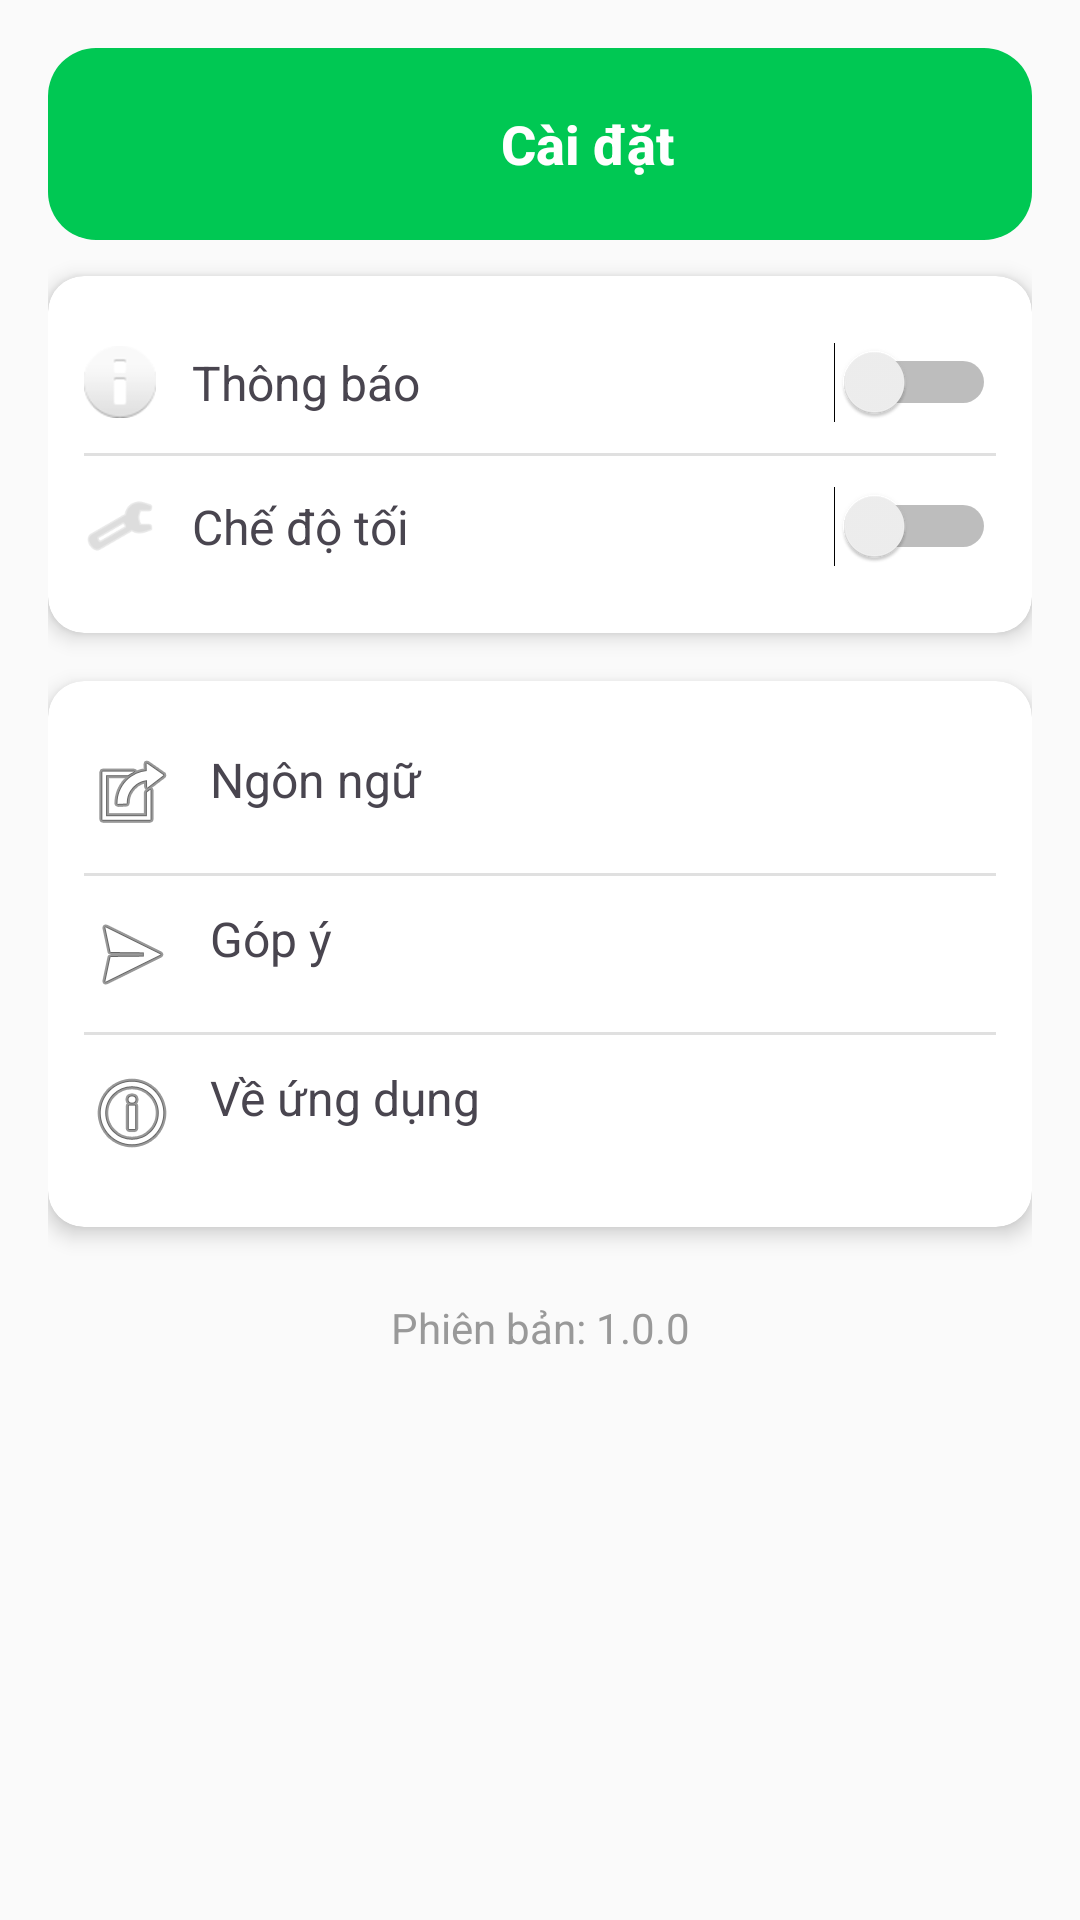

Icon bounding boxes for this 1080×1920 phone screenshot, format (x1, y1, x2, y2):
manage: (89, 503, 151, 549)
